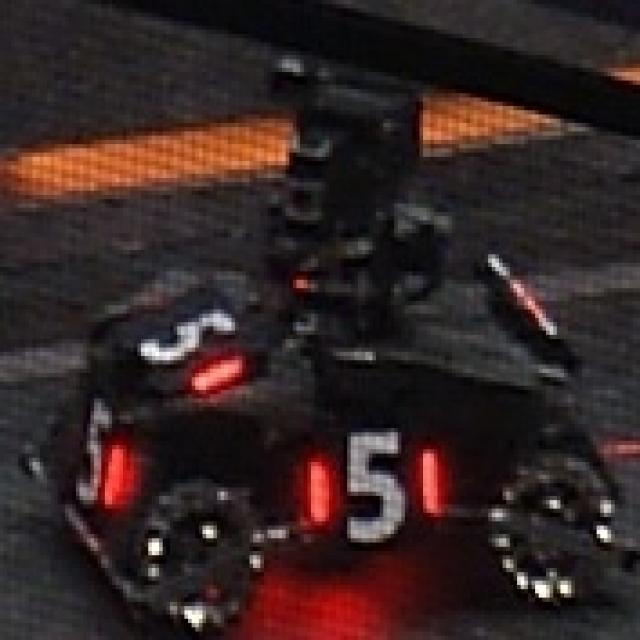R5: (286, 426, 452, 549), (110, 280, 244, 407), (47, 378, 137, 504)
